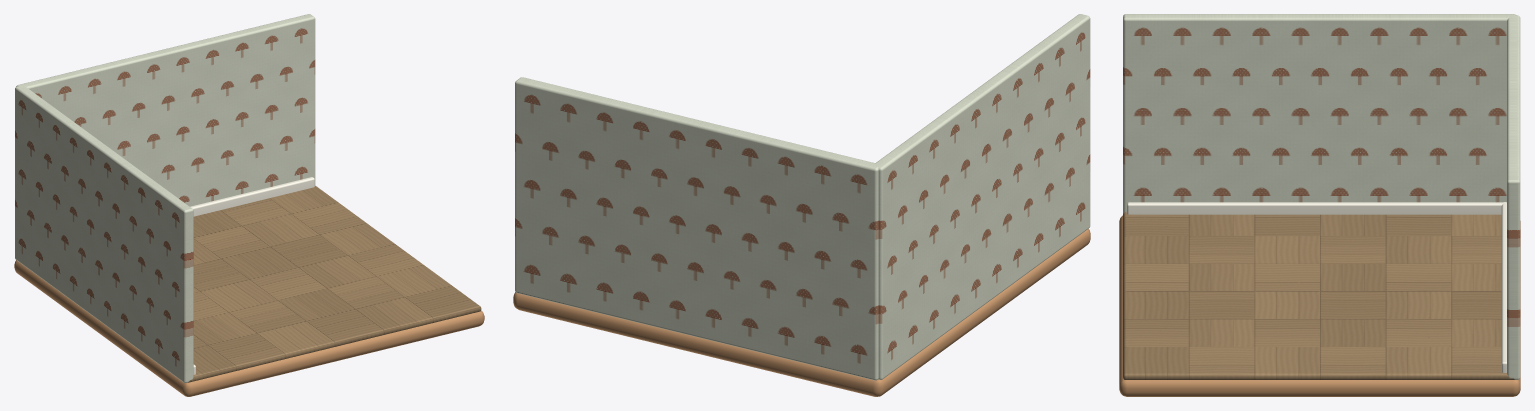
Rendered from room29.glb.
3 views of the same model, side by side, from view 1: azimuth 30°, elevation 25°; view 2: azimuth 150°, elevation 25°; view 3: azimuth 270°, elevation 25° (orthographic). The views are drawn at different scales.
Visible parts, largest first — view 1: Back wall, Cream floor, Left wall, Rounded room foundation, Back skirting; view 2: Back wall, Left wall, Rounded room foundation; view 3: Left wall, Cream floor, Rounded room foundation, Back wall, Left skirting, Back skirting.
Boxes of the visible parts, left/top/right/bottom form: Back wall: left=16, top=14, right=315, bottom=206; Cream floor: left=188, top=185, right=481, bottom=382; Left wall: left=15, top=85, right=193, bottom=382; Rounded room foundation: left=14, top=260, right=484, bottom=396; Back skirting: left=190, top=177, right=314, bottom=216; Back wall: left=515, top=77, right=879, bottom=380; Left wall: left=874, top=14, right=1090, bottom=379; Rounded room foundation: left=513, top=229, right=1090, bottom=396; Left wall: left=1123, top=14, right=1515, bottom=213; Cream floor: left=1123, top=212, right=1514, bottom=379; Rounded room foundation: left=1119, top=215, right=1520, bottom=396; Back wall: left=1507, top=15, right=1520, bottom=379; Left skirting: left=1127, top=202, right=1506, bottom=214; Back skirting: left=1501, top=202, right=1506, bottom=372.
Bounding box in the file's own units: 5.1 × 3.04 × 5.1.
Materials: 4 (2 with a texture image).
